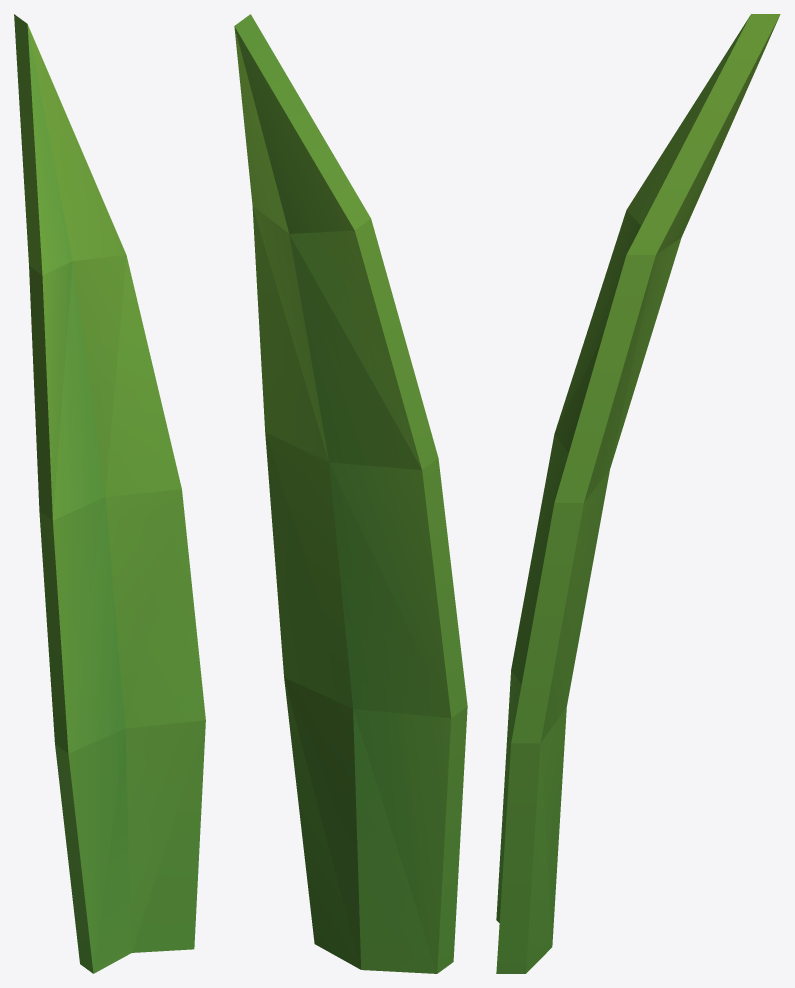
The model's file is kf_grass_2_a.fbx.
3 views of the same model, side by side, from view 1: azimuth 30°, elevation 25°; view 2: azimuth 150°, elevation 25°; view 3: azimuth 270°, elevation 25° (orthographic). The views are drawn at different scales.
Parts seen in each view (by area): view 1: kf_grass_2_a; view 2: kf_grass_2_a; view 3: kf_grass_2_a.
Part boxes in pixels (bbox=[...]): kf_grass_2_a: bbox=[14, 14, 205, 973]; kf_grass_2_a: bbox=[234, 14, 467, 973]; kf_grass_2_a: bbox=[496, 14, 780, 973].
Size of the model in its own units: 0.217 by 1.29 by 0.3551.
Materials: 1 (1 with a texture image).
